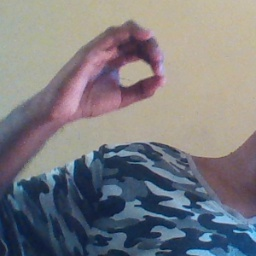O: (52, 17, 166, 122)
